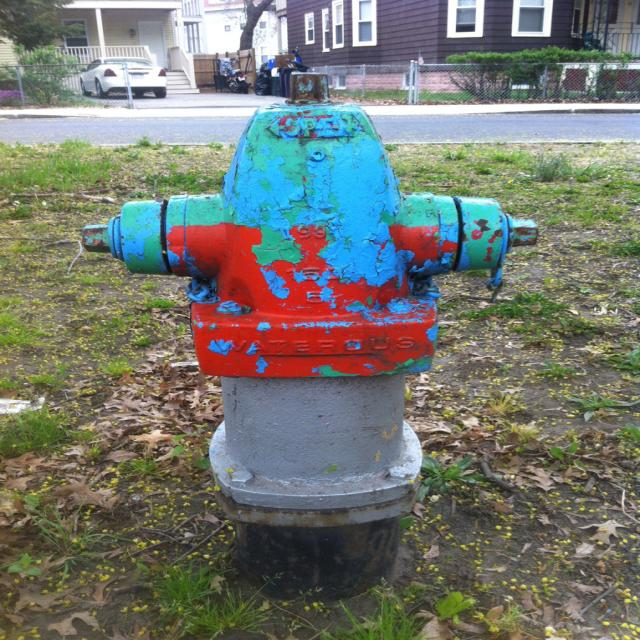fire_hydrant: (77, 68, 543, 604)
